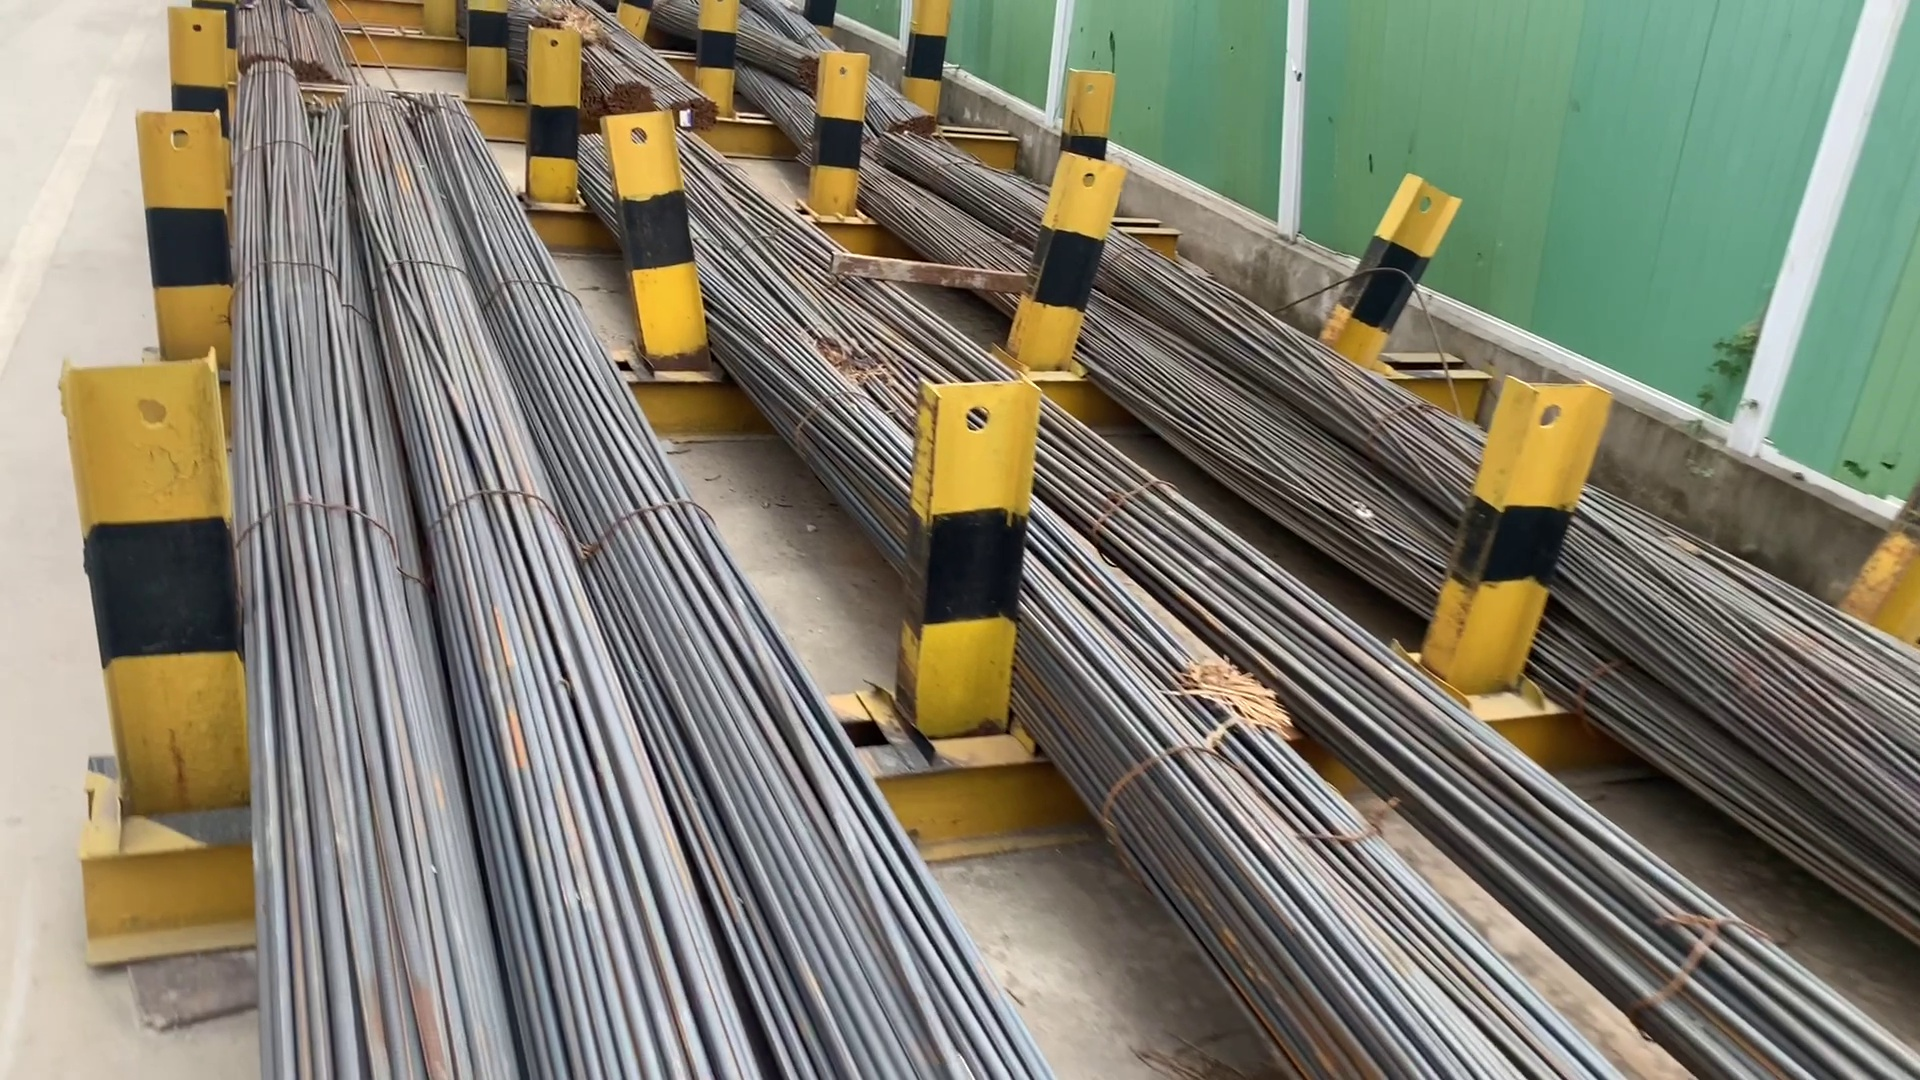rebar: (666, 88, 735, 131), (607, 73, 655, 123), (293, 50, 349, 84), (781, 54, 822, 91)
